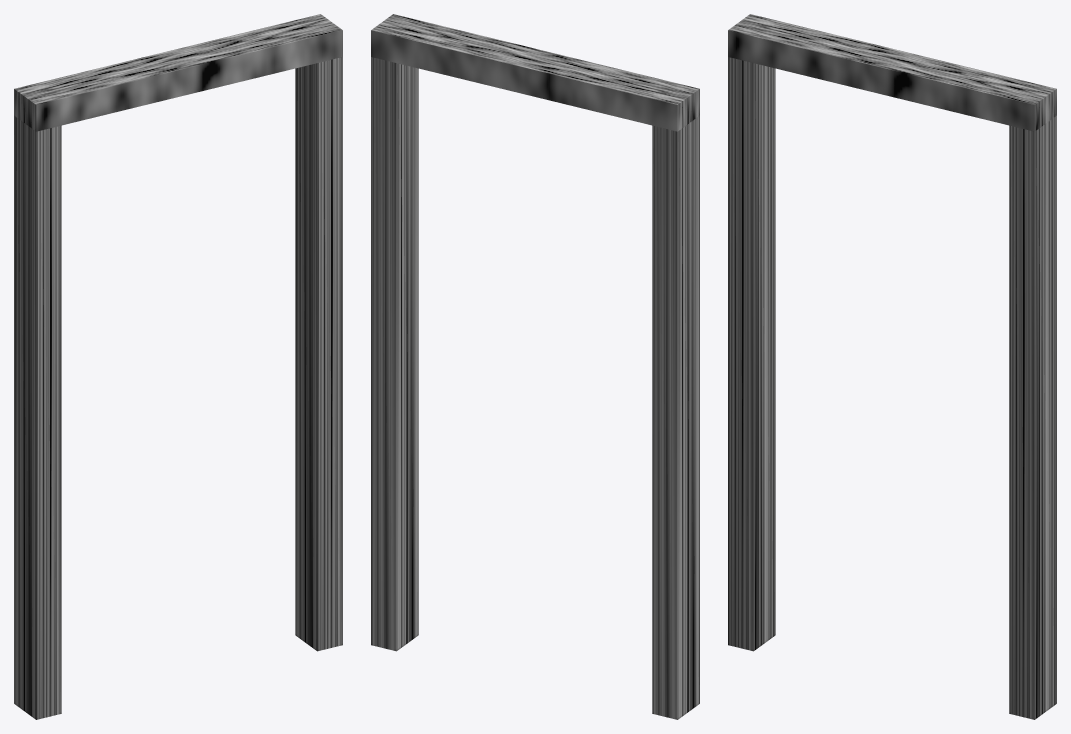
The model's file is door_frame.glb.
The picture shows the model from 3 angles, left to right: view 1: azimuth 30°, elevation 25°; view 2: azimuth 150°, elevation 25°; view 3: azimuth 330°, elevation 25°; orthographic projection.
Parts seen in each view (by area): view 1: door_frame; view 2: door_frame; view 3: door_frame.
Boxes of the visible parts, x1,y1,x2,y2 form: door_frame: [14, 14, 342, 719]; door_frame: [371, 14, 699, 719]; door_frame: [728, 14, 1056, 719].
Bounding box in the file's own units: 1.2 × 2.3 × 0.15.
Materials: 1 (1 with a texture image).
